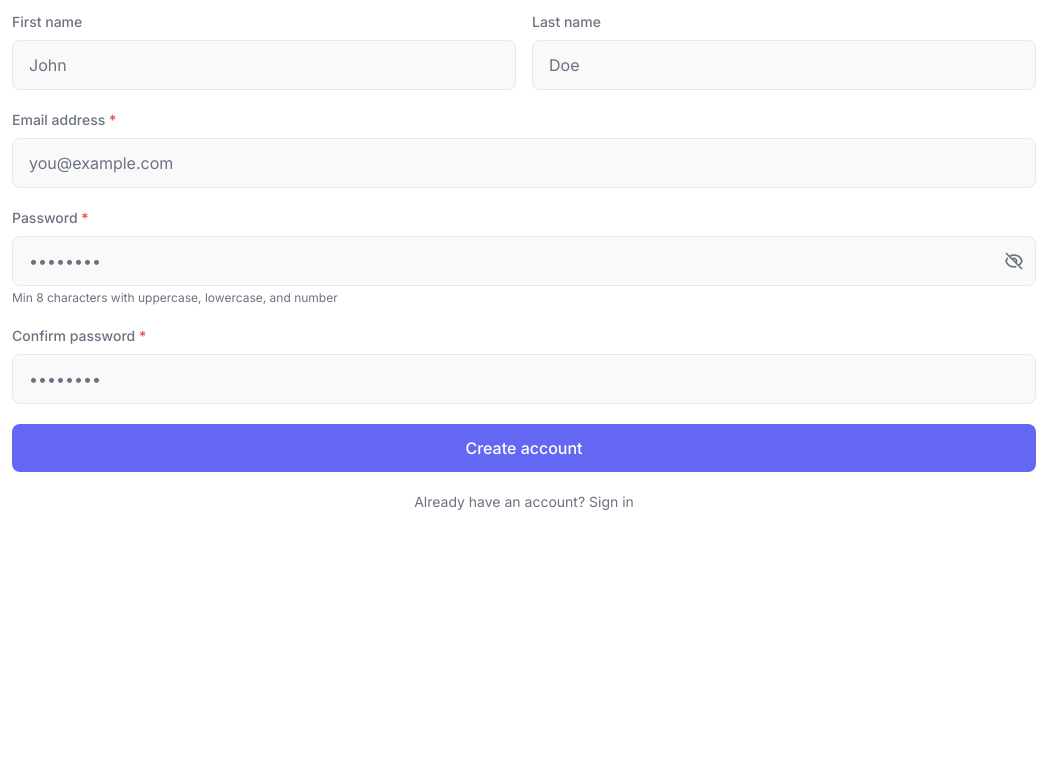
Test: RegisterForm › should show a password min-length error for short passwords
Type "jane@example.com" into the field labelled "Email address *" at point(524, 163), box top-left (12, 138), bottom-right (1036, 188)
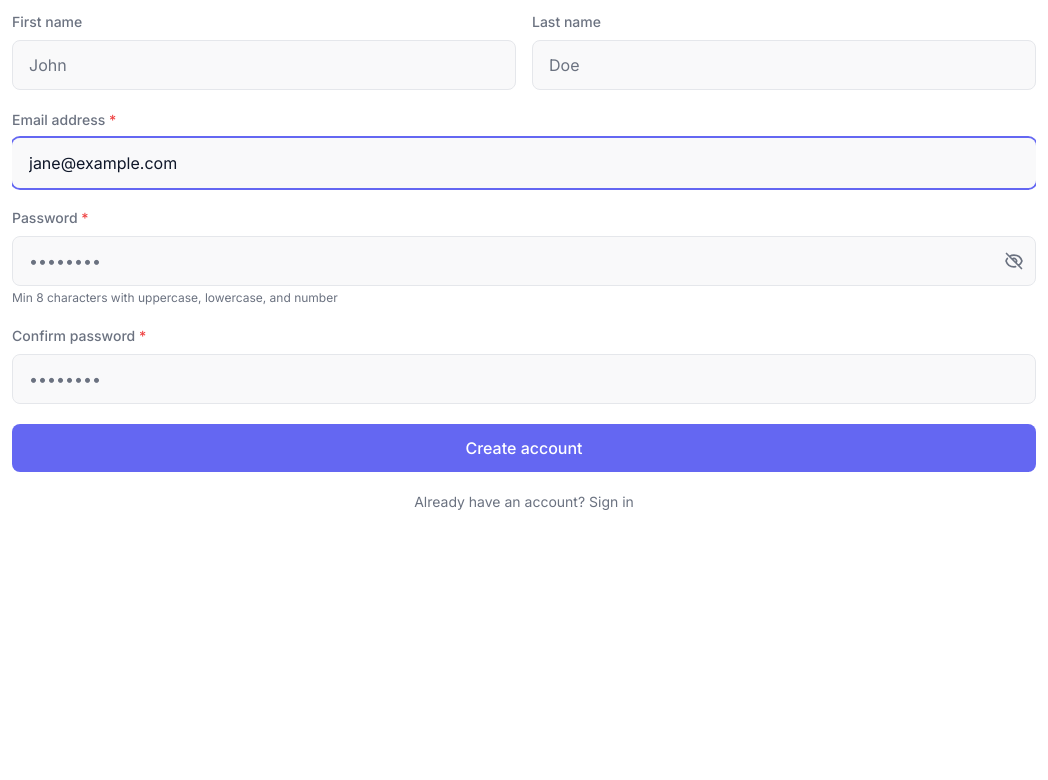
Type "short" into the password field labelled "Password *" at point(524, 261), box top-left (12, 236), bottom-right (1036, 286)
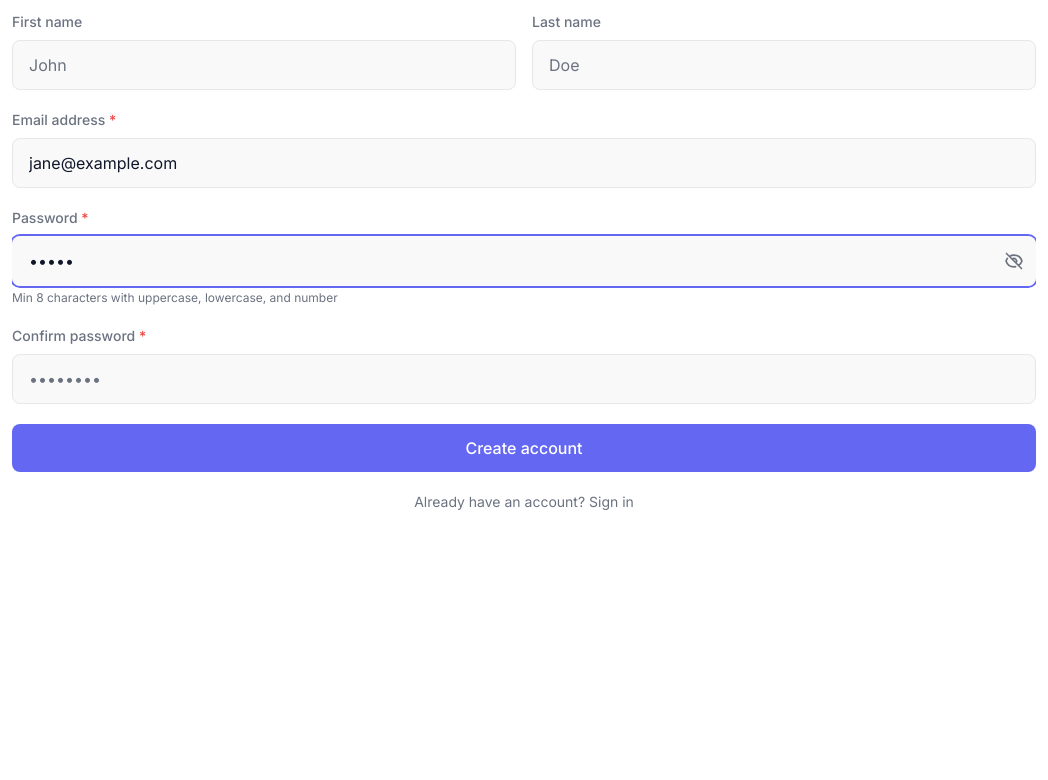
Click the button "Create account" at point(524, 448), box top-left (12, 424), bottom-right (1036, 472)
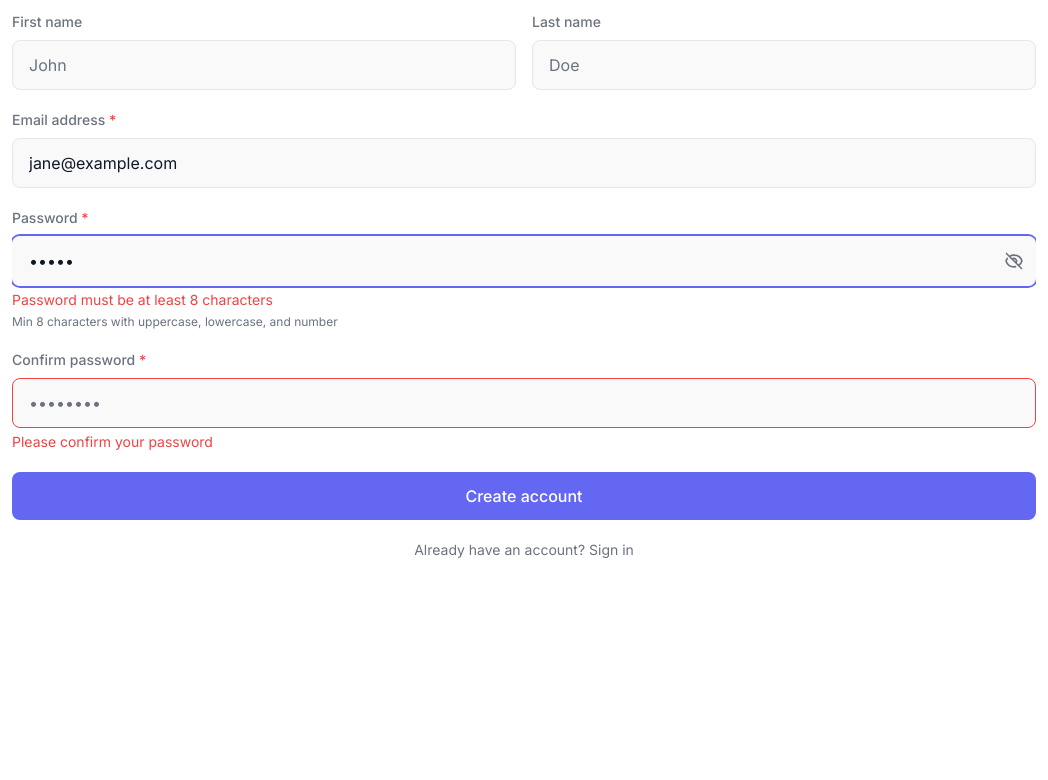
Expected: the text "Password must be at least 8 characters" is shown, top-left (12, 291), bottom-right (273, 308)
